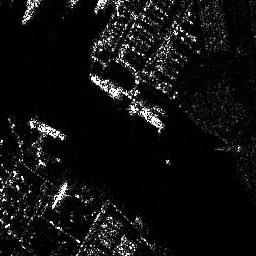ship: (128, 102, 168, 131), (86, 71, 124, 100), (24, 120, 66, 140), (22, 1, 43, 24)
